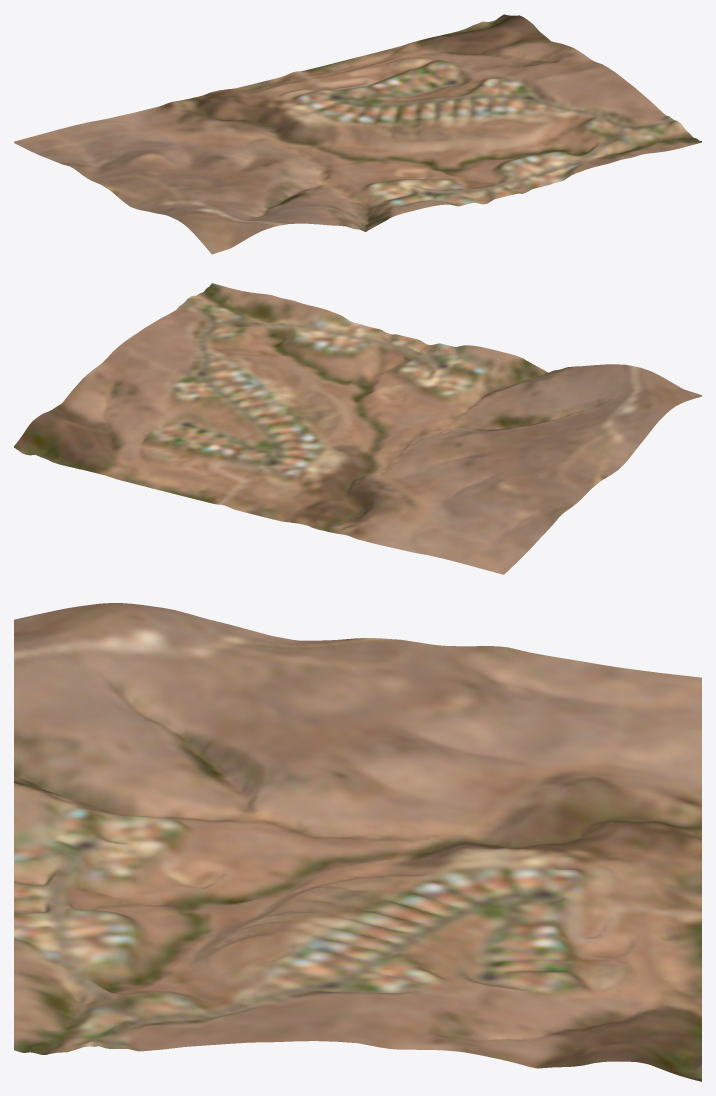
File: terrain_r6_c3.glb
3 views of the same model, one above another, from view 1: azimuth 30°, elevation 25°; view 2: azimuth 150°, elevation 25°; view 3: azimuth 270°, elevation 25° (orthographic). The views are drawn at different scales.
Parts seen in each view (by area): view 1: terrain_r6_c3_lod0; view 2: terrain_r6_c3_lod0; view 3: terrain_r6_c3_lod0.
Part boxes in pixels (x1=…): terrain_r6_c3_lod0: x1=14, y1=14, x2=701, y2=254; terrain_r6_c3_lod0: x1=14, y1=283, x2=701, y2=574; terrain_r6_c3_lod0: x1=14, y1=603, x2=701, y2=1081.
Bounding box in the file's own units: 1125 × 106 × 787.
Materials: 1 (1 with a texture image).
